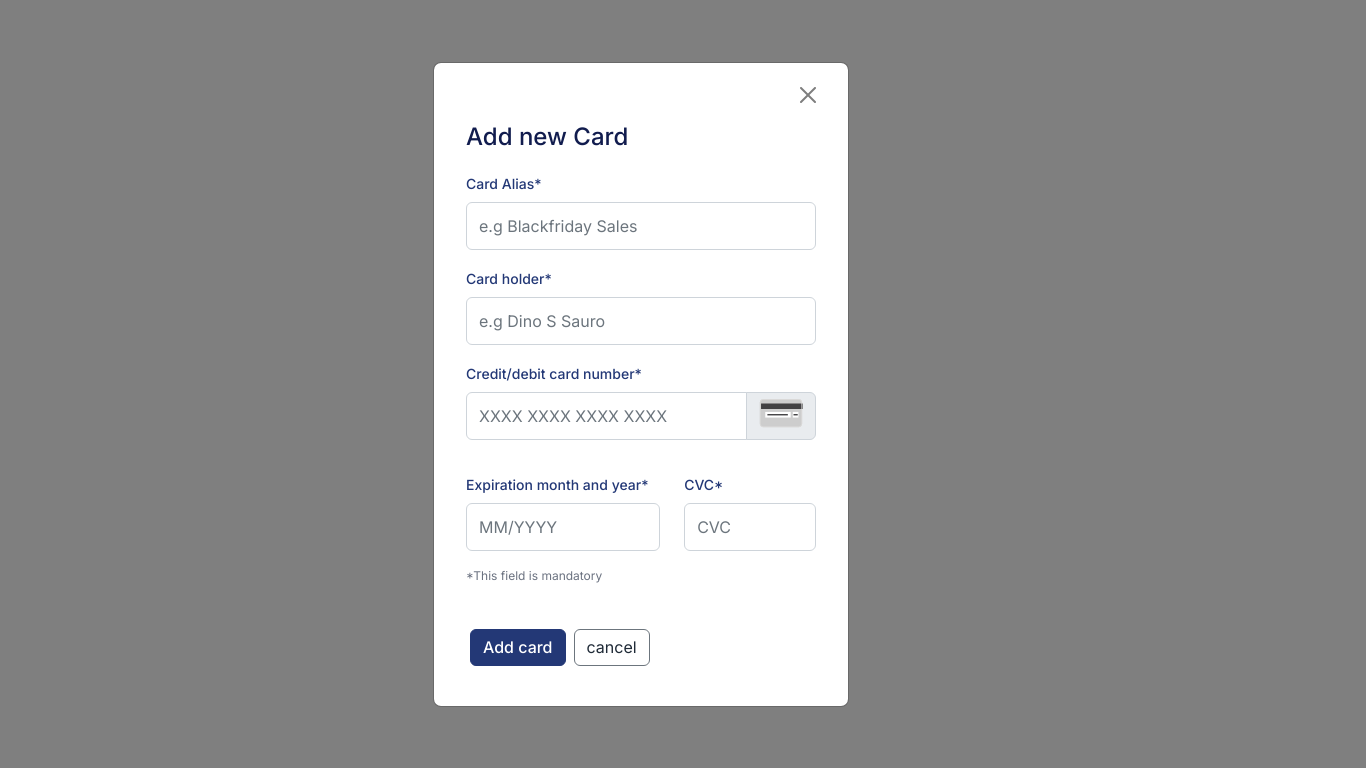
Scenario: FormModal › should have the form invalid when not filling the fields
This screenshot has width=1366, height=768.
Click the button "Add card".
click(518, 647)  # box top-left (470, 628), bottom-right (566, 666)
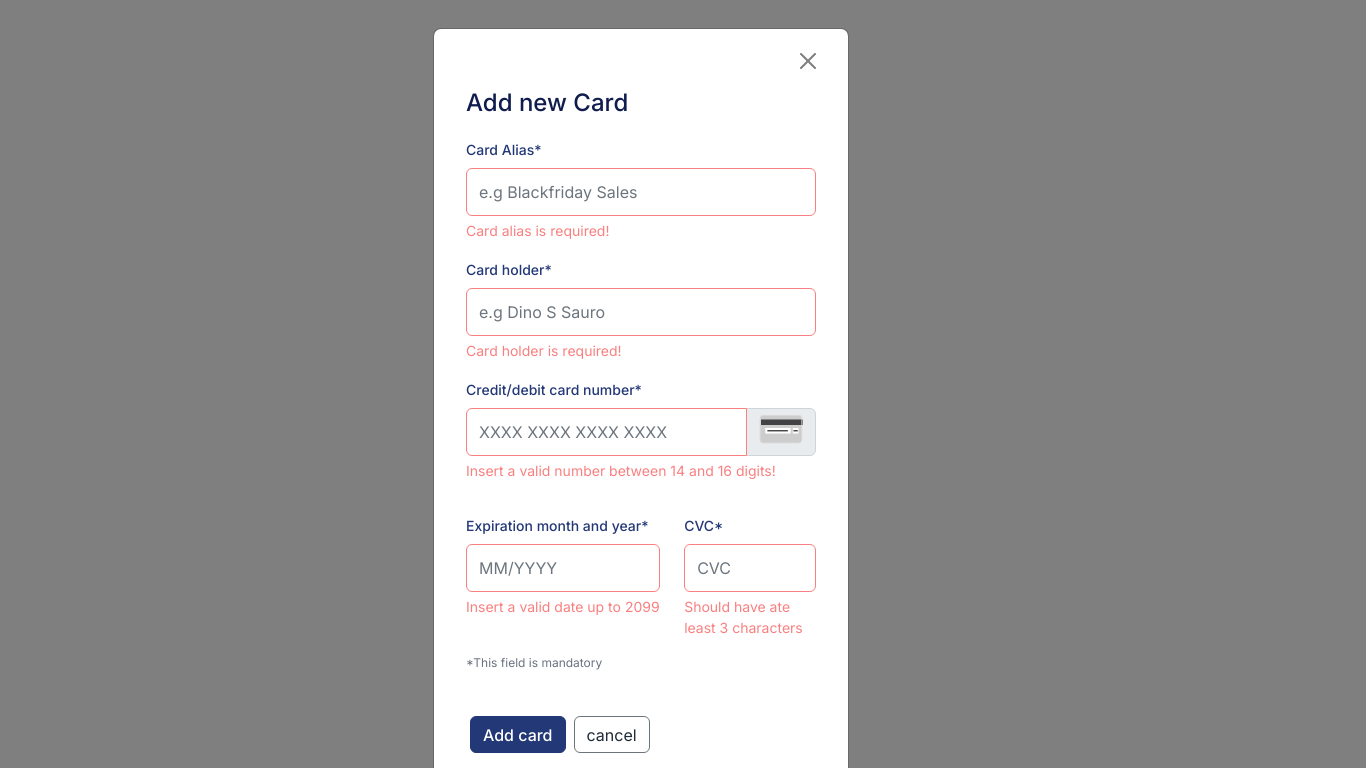
Now the text "Card alias is required!" is shown, box top-left (466, 222), bottom-right (609, 239)
Now the text "Card holder is required!" is shown, box top-left (466, 342), bottom-right (622, 359)
Now the text "Insert a valid number between 14 and 16 digits!" is shown, box top-left (466, 460), bottom-right (816, 481)
